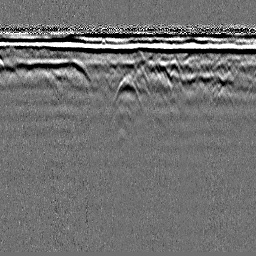cavity: (112, 73, 144, 111)
